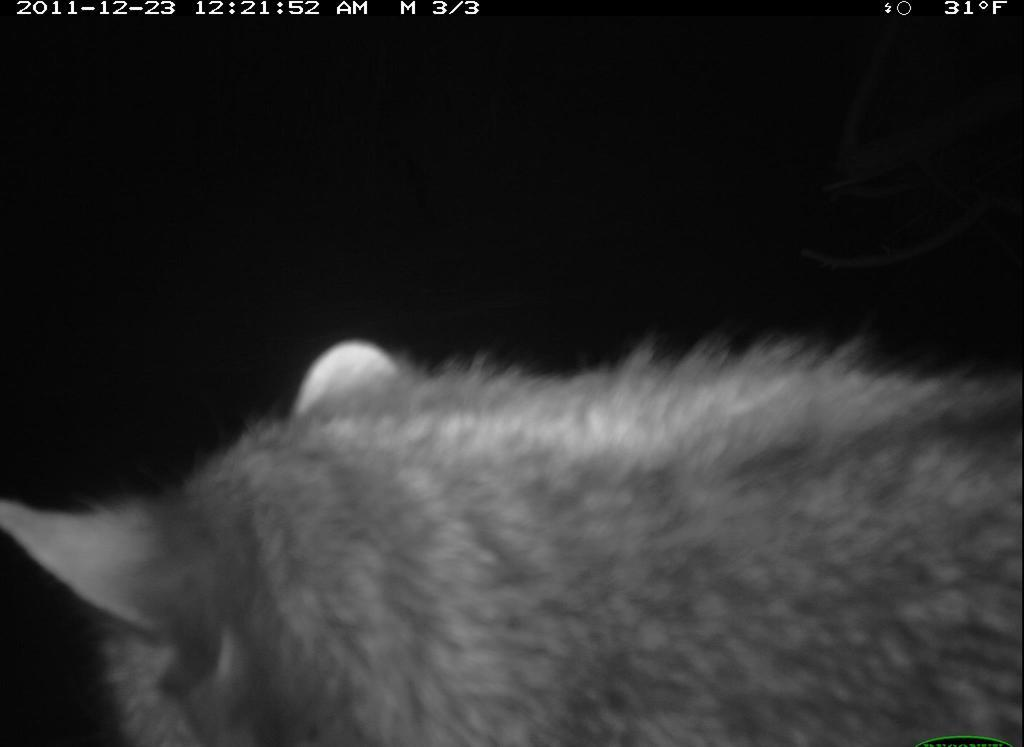raccoon: (6, 323, 1023, 747)
